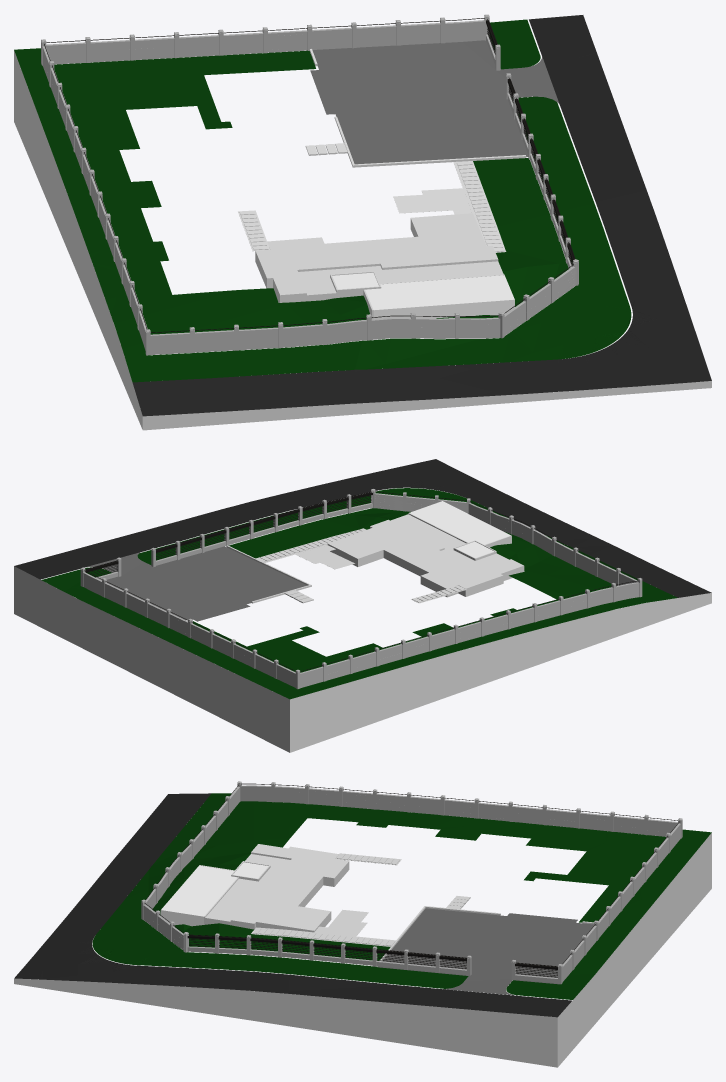
Rendered from site.glb.
3 views of the same model, one above another, from view 1: azimuth 30°, elevation 25°; view 2: azimuth 150°, elevation 25°; view 3: azimuth 270°, elevation 25° (orthographic). The views are drawn at different scales.
Visible parts, largest first — view 1: IfcBuildingElementProxy/Sub-Division:791448, IfcBuildingElementProxy/Sub-Division:802105, IfcBuildingElementProxy/Sub-Division:800063, main Plaster_1.002, main Driveway, main Pavers, Earth.001, main Water liquid, main Concrete, main Frame.002; view 2: Earth.001, main Plaster_1.002, IfcBuildingElementProxy/Sub-Division:791448, IfcBuildingElementProxy/Sub-Division:802105, IfcBuildingElementProxy/Sub-Division:800063, main Pavers, main Driveway, main Frame.002, main Water liquid, main Concrete; view 3: Earth.001, IfcBuildingElementProxy/Sub-Division:791448, IfcBuildingElementProxy/Sub-Division:800063, IfcBuildingElementProxy/Sub-Division:802105, main Plaster_1.002, main Driveway, main Pavers, main Frame.002, main Water liquid, main Concrete.
Part boxes in pixels (box(x1,y1,x2,y2)): IfcBuildingElementProxy/Sub-Division:791448: box(132, 15, 711, 416); IfcBuildingElementProxy/Sub-Division:802105: box(14, 19, 631, 382); IfcBuildingElementProxy/Sub-Division:800063: box(54, 50, 568, 334); main Plaster_1.002: box(41, 14, 578, 355); main Driveway: box(310, 40, 559, 164); main Pavers: box(238, 161, 506, 302); Earth.001: box(14, 50, 711, 430); main Water liquid: box(332, 272, 514, 319); main Concrete: box(239, 49, 526, 319); main Frame.002: box(44, 18, 575, 332); Earth.001: box(14, 566, 711, 752); main Plaster_1.002: box(80, 489, 642, 688); IfcBuildingElementProxy/Sub-Division:791448: box(14, 459, 711, 597); IfcBuildingElementProxy/Sub-Division:802105: box(41, 488, 677, 699); IfcBuildingElementProxy/Sub-Division:800063: box(193, 508, 611, 672); main Pavers: box(256, 514, 524, 603); main Driveway: box(84, 546, 306, 621); main Frame.002: box(84, 491, 638, 671); main Water liquid: box(409, 501, 510, 557); main Concrete: box(186, 513, 511, 620); Earth.001: box(14, 833, 711, 1067); IfcBuildingElementProxy/Sub-Division:791448: box(14, 793, 571, 1017); IfcBuildingElementProxy/Sub-Division:800063: box(152, 801, 665, 960); IfcBuildingElementProxy/Sub-Division:802105: box(92, 793, 711, 999); main Plaster_1.002: box(141, 781, 682, 984); main Driveway: box(377, 908, 593, 995); main Pavers: box(205, 844, 401, 946); main Frame.002: box(144, 783, 679, 977); main Water liquid: box(160, 862, 268, 926); main Concrete: box(199, 853, 594, 961).
Size of the model in its own units: 52.74 by 6.87 by 59.22.
